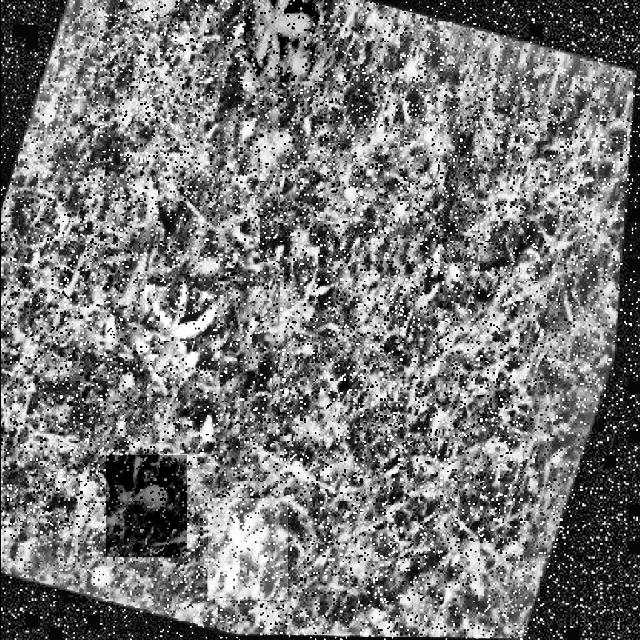Weeds: (144, 280, 228, 385), (105, 455, 186, 557), (207, 498, 287, 600), (243, 0, 325, 82)
